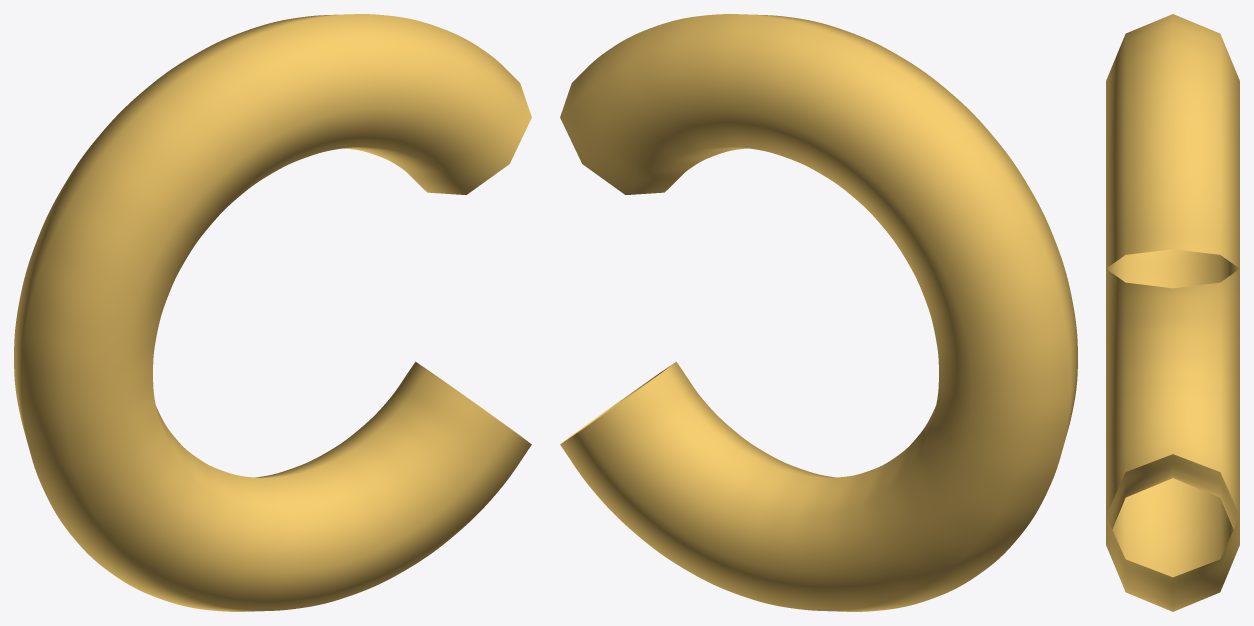
File: word-moon.glb
The picture shows the model from 3 angles, left to right: view 1: azimuth 30°, elevation 25°; view 2: azimuth 150°, elevation 25°; view 3: azimuth 270°, elevation 25°; orthographic projection. The views are drawn at different scales.
Visible parts, largest first — view 1: crescent moon; view 2: crescent moon; view 3: crescent moon.
Boxes of the visible parts, x1,y1,x2,y2 form: crescent moon: [14, 14, 531, 611]; crescent moon: [560, 14, 1077, 611]; crescent moon: [1106, 14, 1239, 611].
Bounding box in the file's own units: 1.04 × 1.16 × 0.26.
